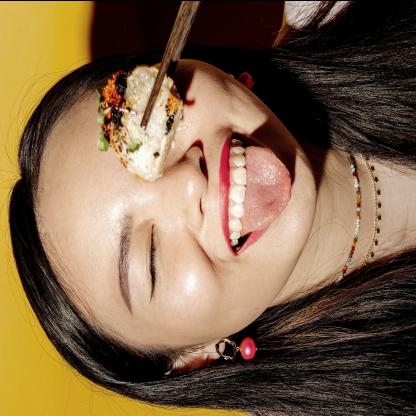Eye: (136, 208, 160, 316)
Mouth: (214, 120, 274, 258)
Nose: (154, 140, 210, 236)
